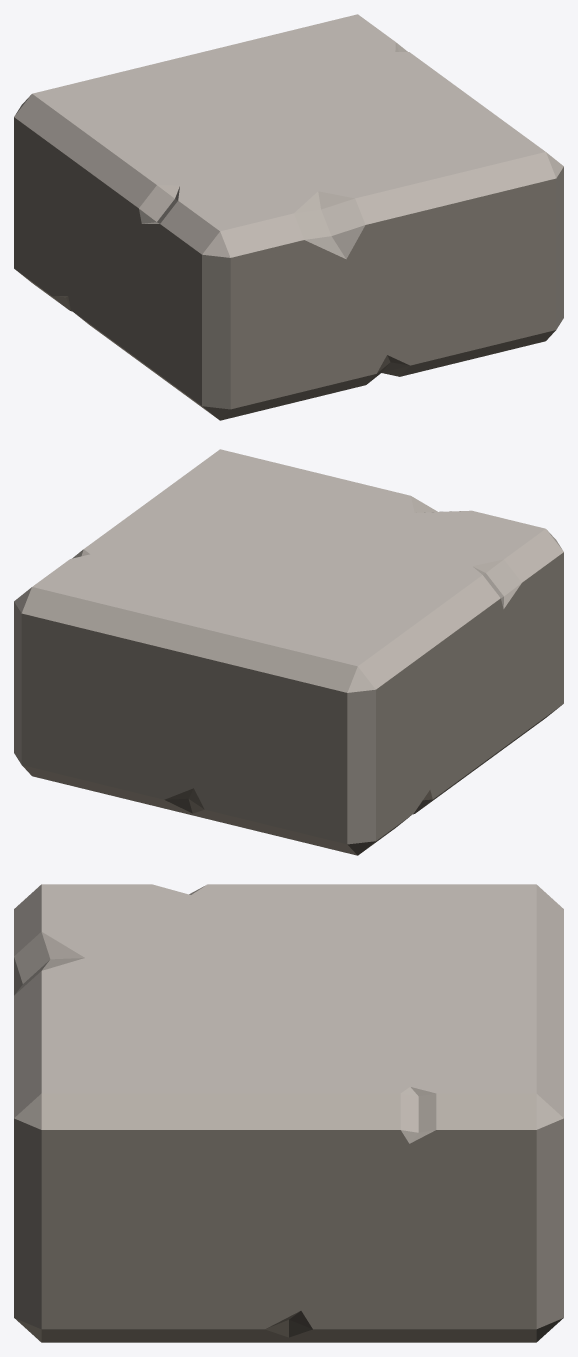
Rendered from m_kub_stone_cubeSmall.FBX.
The picture shows the model from 3 angles, top to bottom: view 1: azimuth 30°, elevation 25°; view 2: azimuth 150°, elevation 25°; view 3: azimuth 270°, elevation 25°; orthographic projection. The views are drawn at different scales.
Visible parts, largest first — view 1: m_kub_stone_cubeSmall; view 2: m_kub_stone_cubeSmall; view 3: m_kub_stone_cubeSmall.
Boxes of the visible parts, x1,y1,x2,y2 form: m_kub_stone_cubeSmall: [14, 14, 563, 420]; m_kub_stone_cubeSmall: [14, 449, 563, 855]; m_kub_stone_cubeSmall: [14, 884, 563, 1342].
Size of the model in its own units: 2 by 1 by 2.
